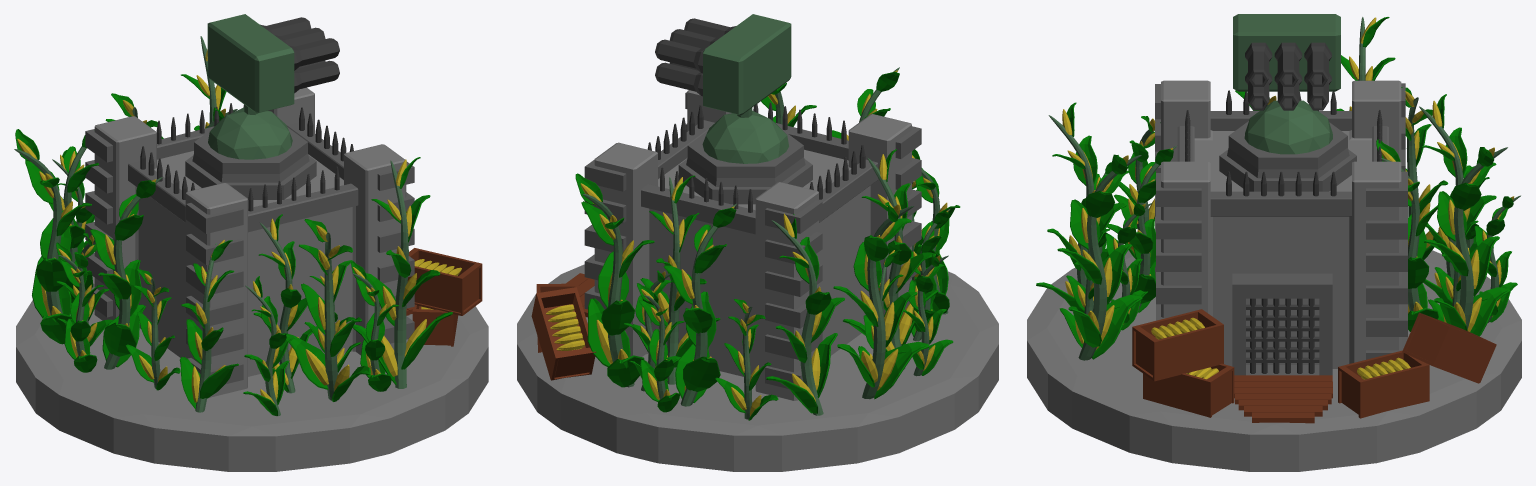
File: defence_TieuLien_5.fbx
The picture shows the model from 3 angles, left to right: view 1: azimuth 30°, elevation 25°; view 2: azimuth 150°, elevation 25°; view 3: azimuth 270°, elevation 25°; orthographic projection. The views are drawn at different scales.
Parts seen in each view (by area): view 1: Turret_3_Level_5_Base, Turret_3_Level_5_Weapon; view 2: Turret_3_Level_5_Base, Turret_3_Level_5_Weapon; view 3: Turret_3_Level_5_Base, Turret_3_Level_5_Weapon.
Boxes of the visible parts, x1,y1,x2,y2 form: Turret_3_Level_5_Base: [14, 36, 488, 471]; Turret_3_Level_5_Weapon: [207, 14, 339, 159]; Turret_3_Level_5_Base: [517, 67, 998, 471]; Turret_3_Level_5_Weapon: [655, 14, 791, 163]; Turret_3_Level_5_Base: [1027, 17, 1521, 471]; Turret_3_Level_5_Weapon: [1233, 14, 1340, 154].
Size of the model in its own units: 385 by 299 by 385.
